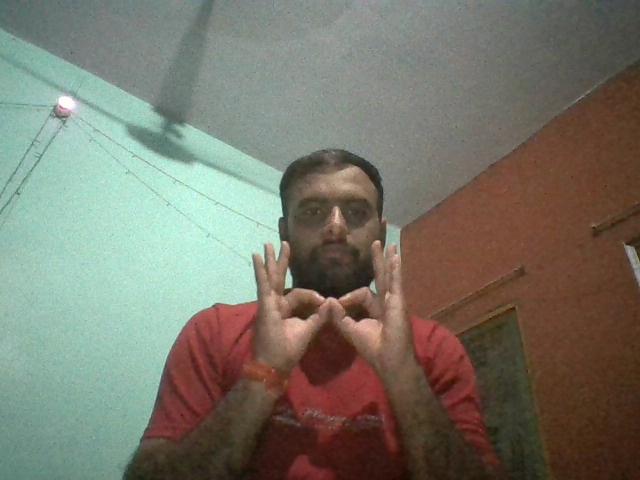family: (250, 238, 411, 367)
